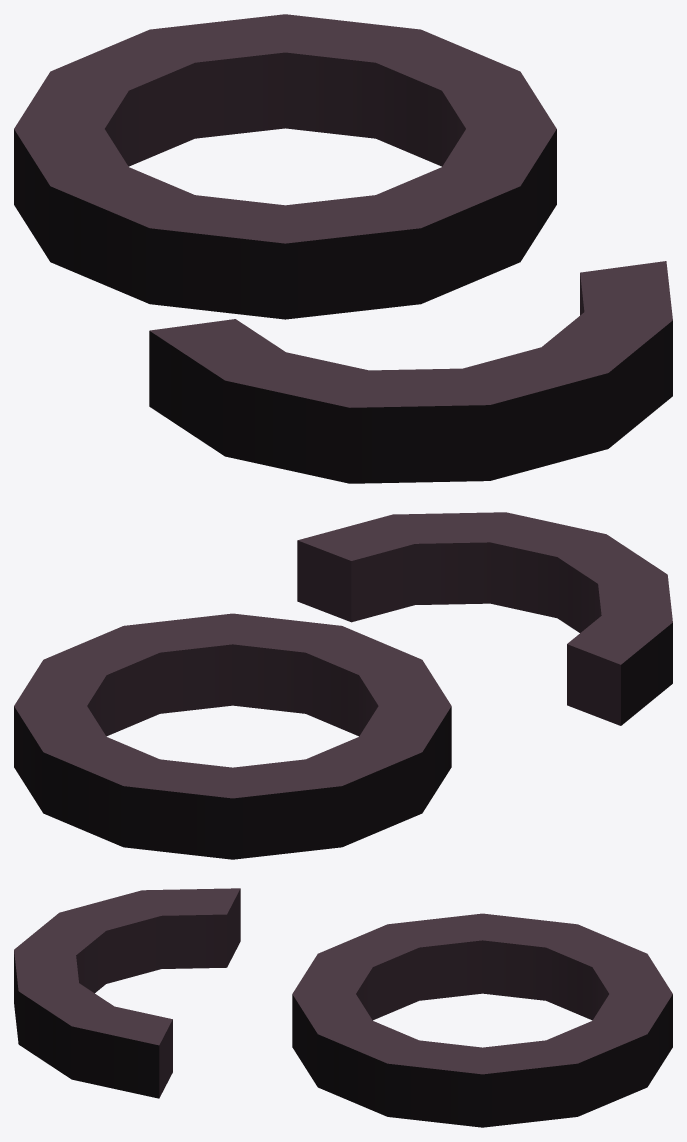
File: olives.glb
3 renders of one model, top to bottom at view 1: azimuth 30°, elevation 25°; view 2: azimuth 150°, elevation 25°; view 3: azimuth 270°, elevation 25°, orthographic. The views are drawn at different scales.
Parts seen in each view (by area): view 1: Olive_Slice; view 2: Olive_Slice; view 3: Olive_Slice.
Boxes of the visible parts, <box> form: Olive_Slice: <box>14,14,672,483</box>; Olive_Slice: <box>14,512,672,859</box>; Olive_Slice: <box>14,888,672,1127</box>.
Size of the model in its own units: 0.0749 by 0.01 by 0.1121.
Materials: 1 (1 with a texture image).
